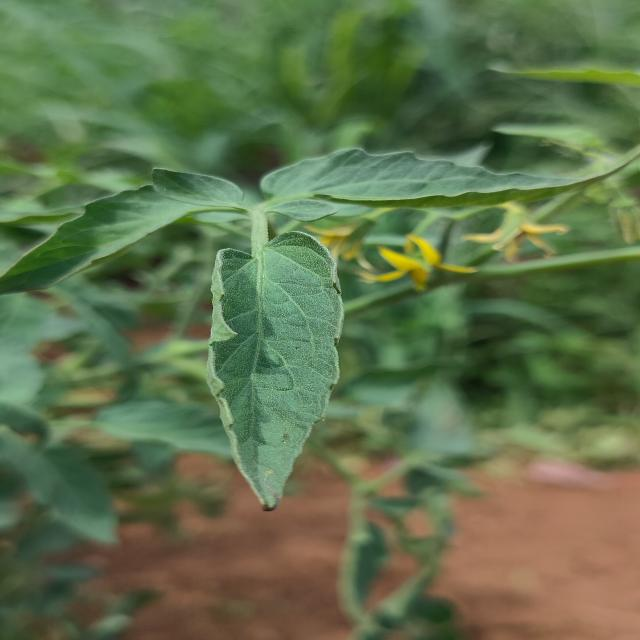tomato_healthy: (202, 235, 345, 502), (0, 165, 245, 306), (267, 133, 640, 209)
